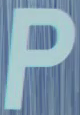Parking: (1, 0, 72, 109)
